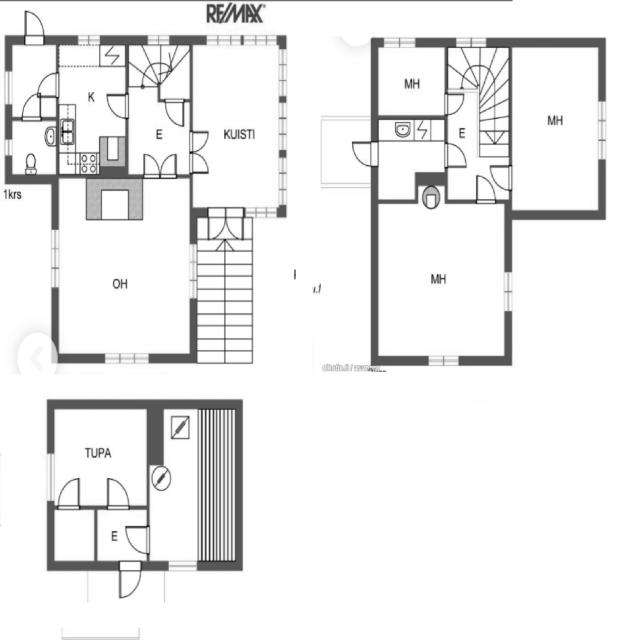door: (158, 47, 192, 104), (139, 148, 180, 180), (102, 473, 133, 515), (115, 559, 144, 603), (20, 6, 50, 48), (54, 473, 84, 515), (162, 91, 190, 132), (188, 128, 211, 176), (205, 204, 231, 246), (348, 136, 380, 170), (102, 87, 132, 123), (121, 523, 152, 557), (220, 206, 247, 243), (442, 139, 471, 172), (486, 160, 514, 194), (472, 171, 497, 205), (36, 70, 62, 101), (441, 88, 467, 116), (20, 93, 44, 123), (141, 150, 160, 178)
window: (592, 94, 611, 168), (46, 224, 64, 297), (185, 237, 202, 311), (99, 350, 155, 369), (206, 32, 272, 48), (276, 146, 291, 212), (41, 448, 58, 506), (275, 46, 291, 106), (276, 94, 290, 160), (500, 265, 516, 321), (422, 352, 465, 372), (379, 32, 421, 52), (162, 557, 204, 577), (247, 205, 282, 222), (72, 32, 104, 50), (2, 66, 15, 109), (455, 36, 492, 51), (143, 32, 175, 48), (3, 134, 15, 161)
zone: (54, 175, 195, 360), (374, 194, 511, 362), (508, 40, 605, 215), (188, 41, 287, 211), (149, 402, 243, 568), (43, 404, 155, 511), (58, 39, 129, 174), (374, 111, 447, 199), (374, 44, 446, 116), (48, 507, 96, 569), (10, 120, 60, 178)
